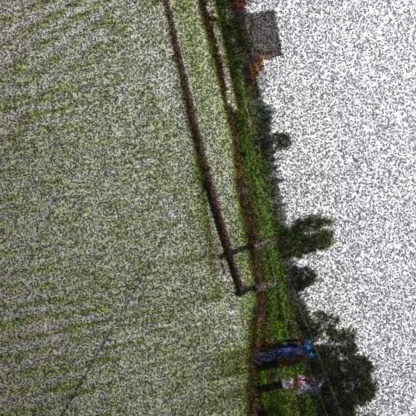blue: (302, 343, 312, 352), (305, 338, 313, 346), (308, 351, 316, 358)
